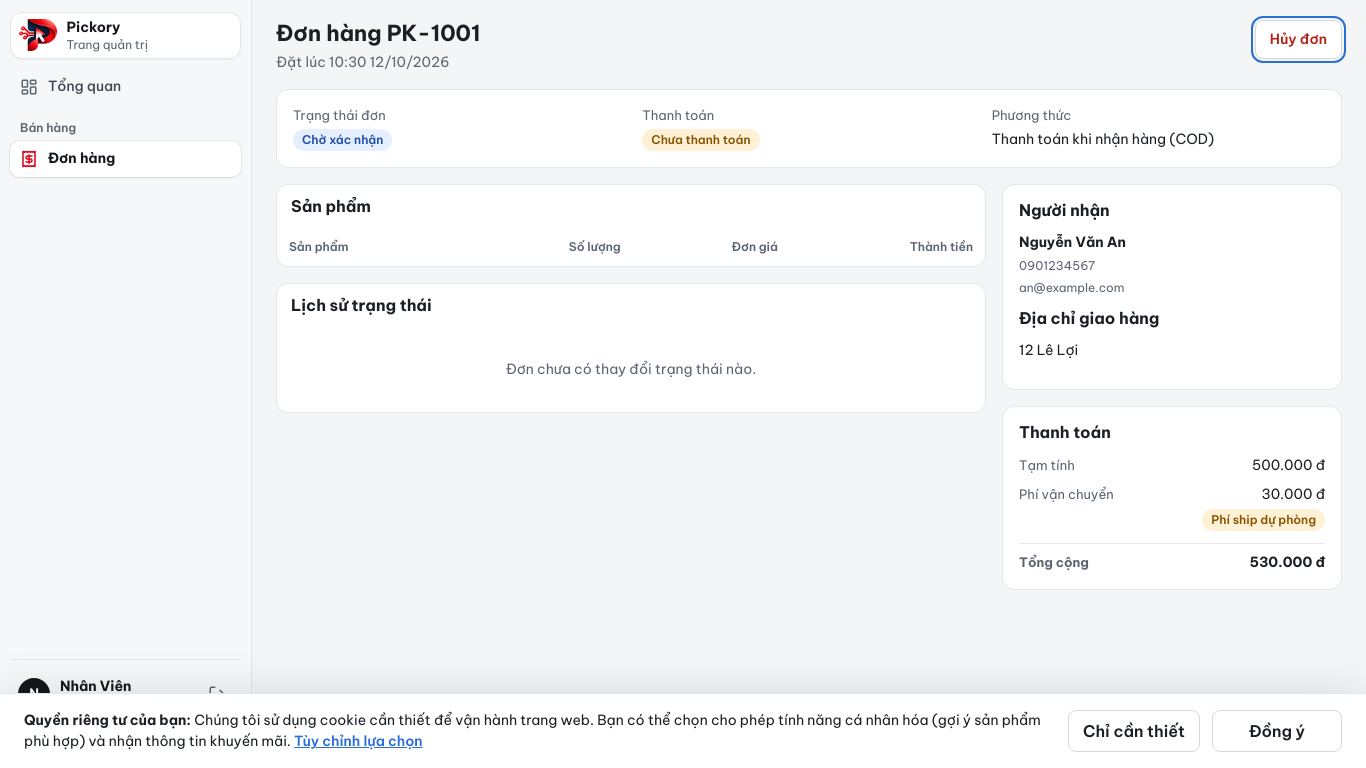
Test case: nút thao tác trên chi tiết đơn › hủy đơn với lý do rỗng không gọi API và hiện lỗi dưới ô
Click the button "Hủy đơn": x=1298, y=40 [1255, 20, 1342, 59]
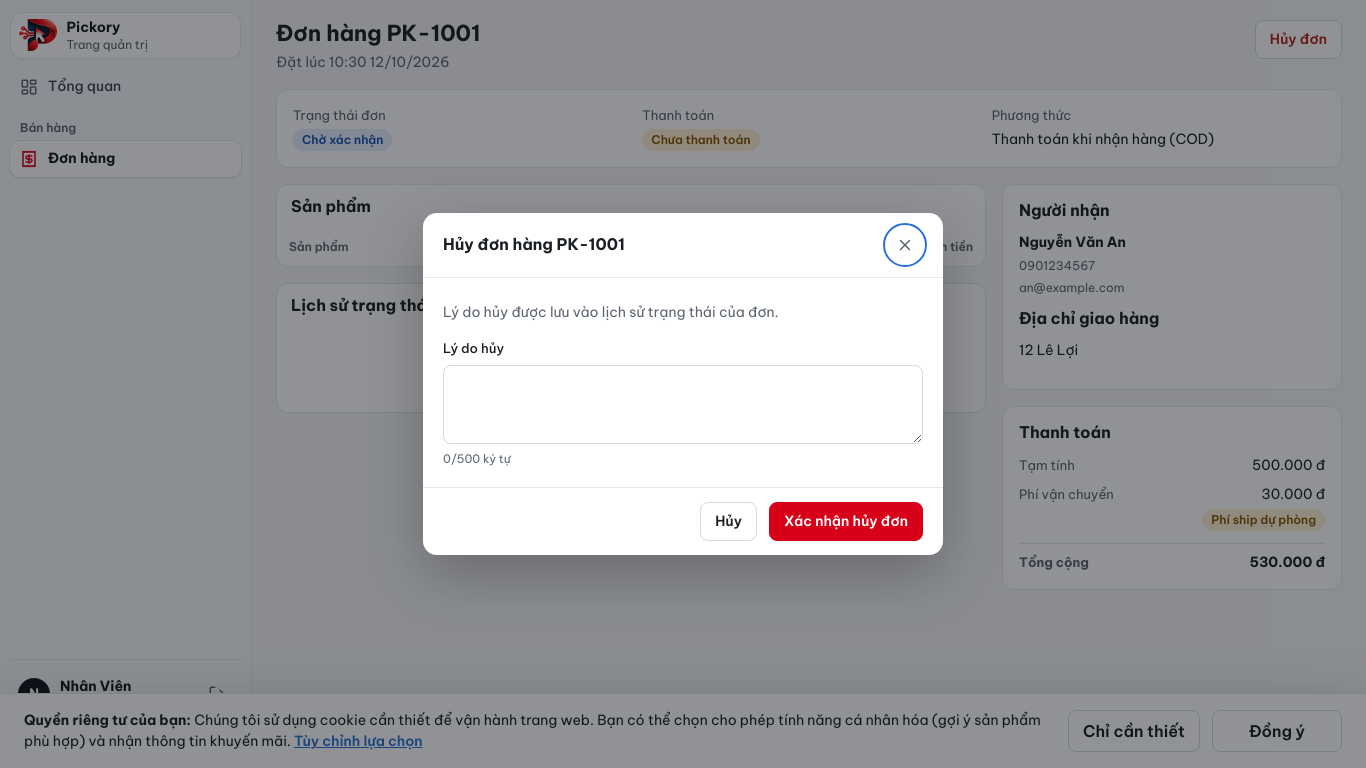
Click the button "Xác nhận hủy đơn": x=846, y=522 [769, 502, 923, 541]
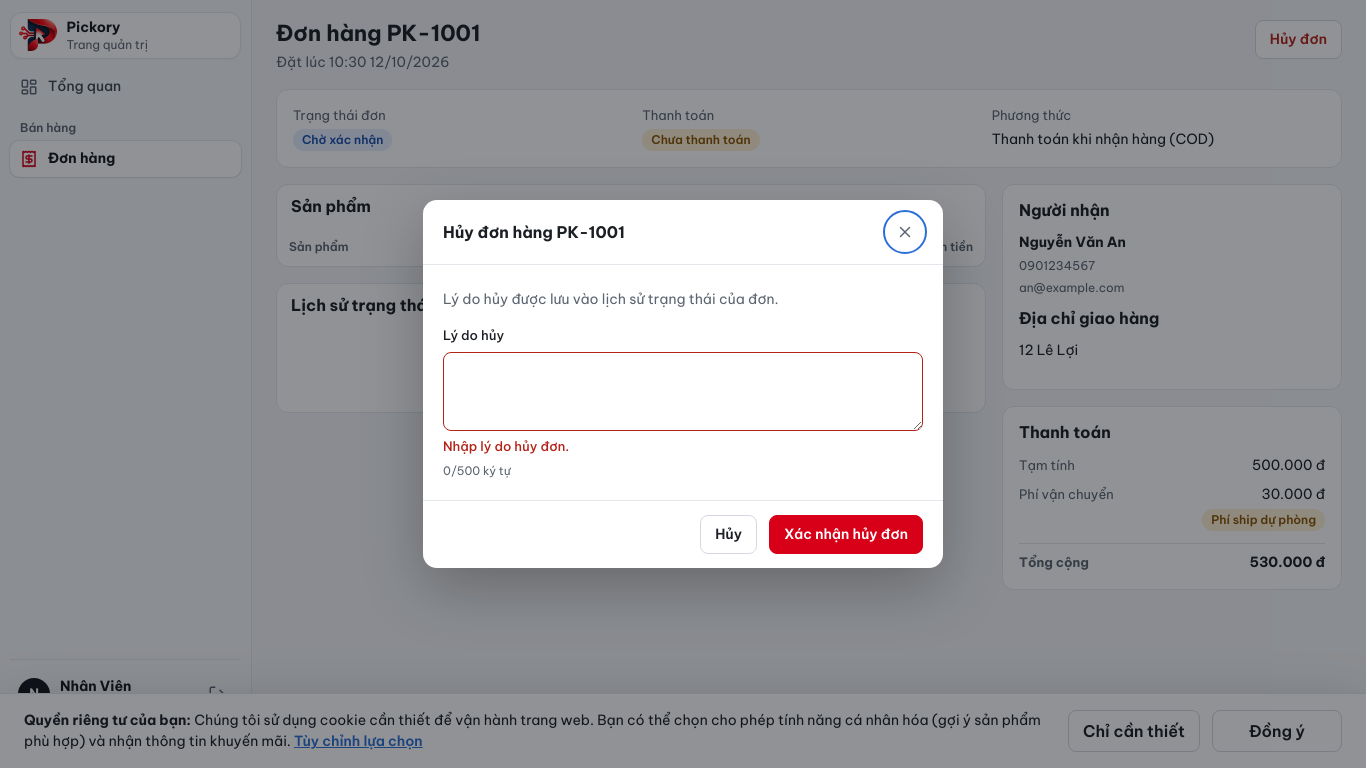
Check: the dialog is shown, box [423, 200, 943, 568]
Check: the dialog shows "Nhập lý do hủy đơn.", box [443, 438, 569, 454]
